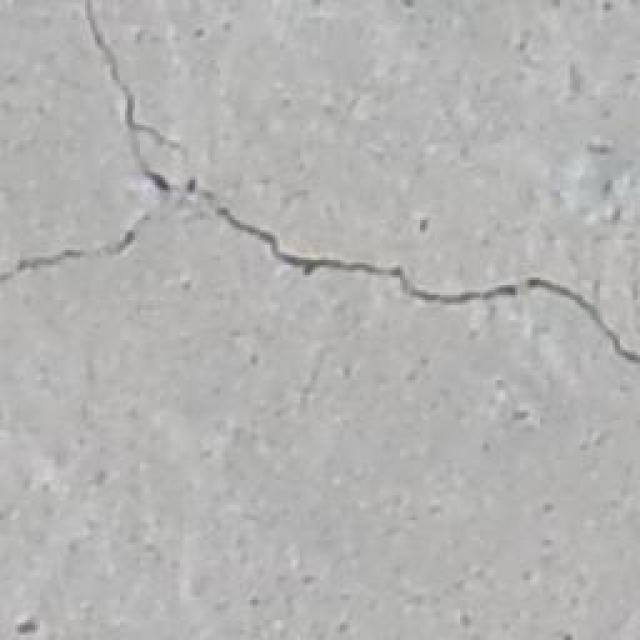concrete-crack: (1, 2, 640, 360)
